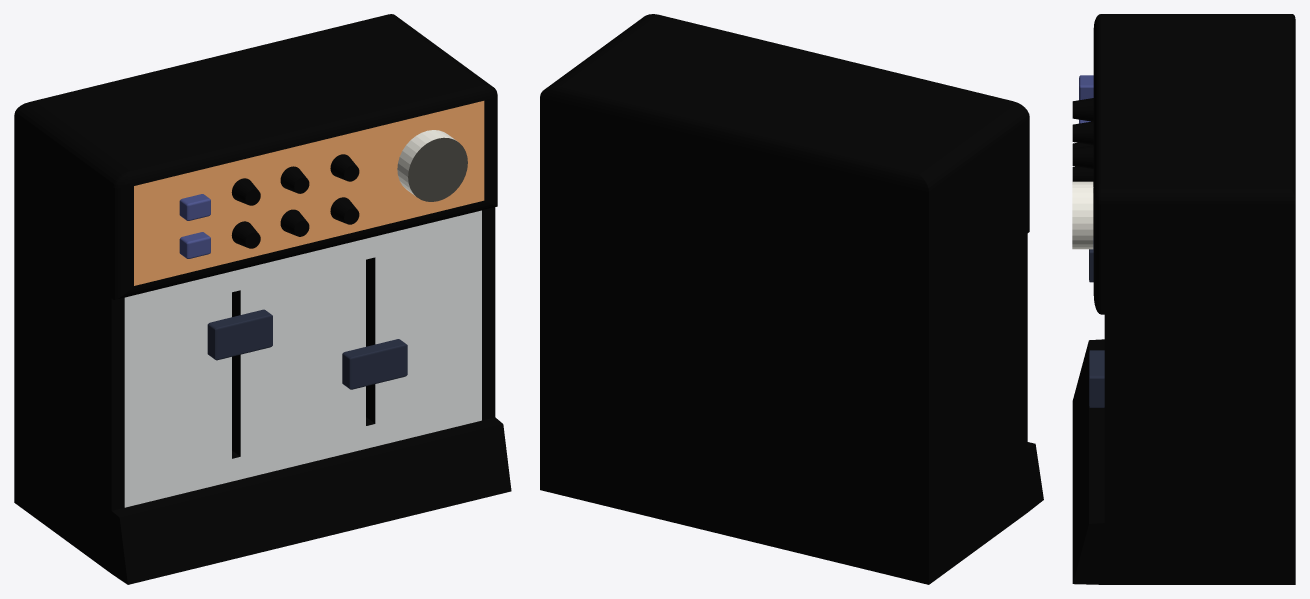
Rendered from mixerslider2.fbx.
The picture shows the model from 3 angles, left to right: view 1: azimuth 30°, elevation 25°; view 2: azimuth 150°, elevation 25°; view 3: azimuth 270°, elevation 25°; orthographic projection. The views are drawn at different scales.
Parts seen in each view (by area): view 1: Cube, Cylinder, Cube.001, Cube.002, Cube.005, Cube.004; view 2: Cube; view 3: Cube, Cylinder, Cube.001, Cylinder.002, Cylinder.001, Cylinder.005, Cube.005, Cylinder.004.
Boxes of the visible parts, box(x1,y1,x2,y2) form: Cube: box(14, 14, 511, 584); Cylinder: box(397, 130, 467, 201); Cube.001: box(342, 339, 407, 389); Cube.002: box(207, 309, 272, 360); Cube.005: box(179, 194, 210, 220); Cube.004: box(179, 232, 210, 258); Cube: box(540, 14, 1043, 584); Cube: box(1072, 14, 1295, 584); Cylinder: box(1072, 181, 1093, 249); Cube.001: box(1089, 350, 1104, 407); Cylinder.002: box(1072, 121, 1093, 145); Cylinder.001: box(1072, 145, 1093, 168); Cylinder.005: box(1072, 98, 1093, 121); Cube.005: box(1079, 75, 1093, 100); Cylinder.004: box(1072, 166, 1093, 186).
Bounding box in the file's own units: 143 × 143 × 73.45.
